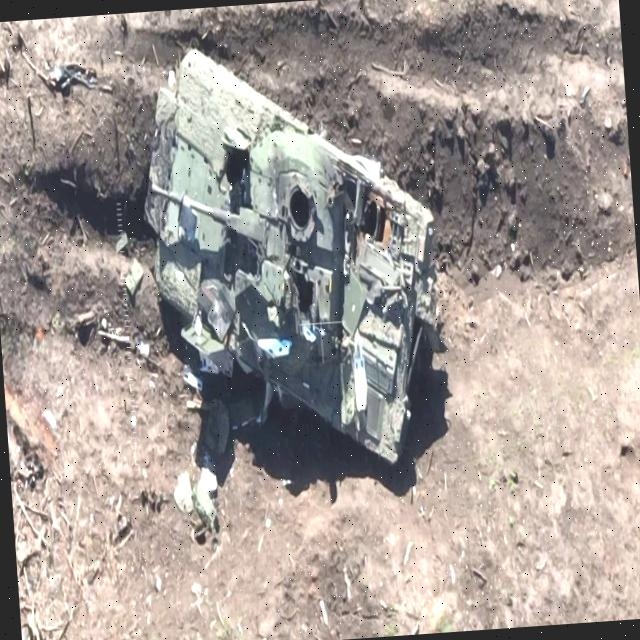AIFV: (134, 34, 454, 487)
